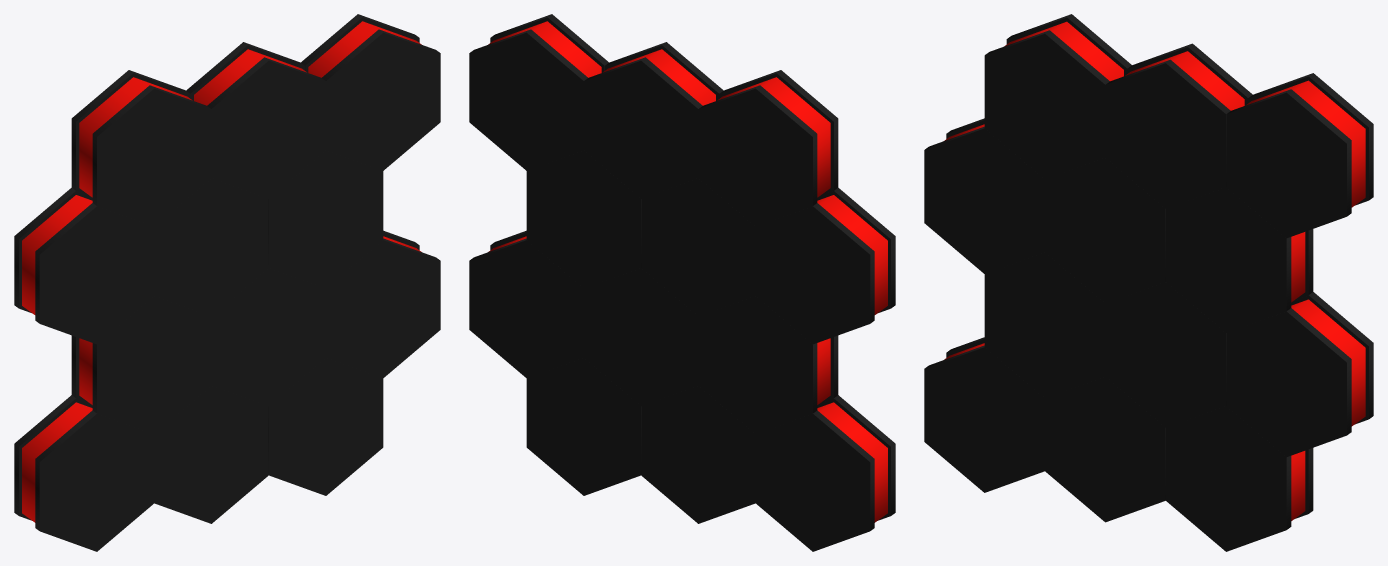
Rendered from Wall_Tile.fbx.
3 renders of one model, left to right at view 1: azimuth 30°, elevation 25°; view 2: azimuth 150°, elevation 25°; view 3: azimuth 330°, elevation 25°, orthographic. The views are drawn at different scales.
Parts seen in each view (by area): view 1: Wall_Tile011, Wall_Tile008, Wall_Tile002, Wall_Tile009, Wall_Tile010, Wall_Tile005, Wall_Tile004, Wall_Tile007, Wall_Tile001, Wall_Tile, Wall_Tile006, Wall_Tile003; view 2: Wall_Tile011, Wall_Tile008, Wall_Tile002, Wall_Tile009, Wall_Tile010, Wall_Tile005, Wall_Tile004, Wall_Tile007, Wall_Tile001, Wall_Tile, Wall_Tile006, Wall_Tile003; view 3: Wall_Tile010, Wall_Tile004, Wall_Tile009, Wall_Tile011, Wall_Tile007, Wall_Tile001, Wall_Tile002, Wall_Tile008, Wall_Tile003, Wall_Tile005, Wall_Tile, Wall_Tile006.
Boxes of the visible parts, box(x1,y1,x2,y2) form: Wall_Tile011: box(71, 70, 211, 226); Wall_Tile008: box(14, 187, 154, 344); Wall_Tile002: box(14, 395, 154, 551); Wall_Tile009: box(186, 42, 325, 198); Wall_Tile010: box(301, 14, 440, 170); Wall_Tile005: box(71, 296, 211, 433); Wall_Tile004: box(326, 230, 440, 378); Wall_Tile007: box(268, 150, 383, 288); Wall_Tile001: box(268, 358, 383, 495); Wall_Tile: box(154, 385, 268, 523); Wall_Tile006: box(154, 178, 268, 316); Wall_Tile003: box(211, 268, 325, 406); Wall_Tile011: box(698, 70, 838, 226); Wall_Tile008: box(755, 187, 895, 344); Wall_Tile002: box(755, 395, 895, 551); Wall_Tile009: box(584, 42, 723, 198); Wall_Tile010: box(469, 14, 608, 170); Wall_Tile005: box(698, 296, 838, 433); Wall_Tile004: box(469, 230, 583, 378); Wall_Tile007: box(526, 150, 641, 288); Wall_Tile001: box(526, 358, 641, 495); Wall_Tile: box(641, 385, 755, 523); Wall_Tile006: box(641, 178, 755, 316); Wall_Tile003: box(584, 268, 698, 406); Wall_Tile010: box(1226, 73, 1373, 238); Wall_Tile004: box(1226, 292, 1373, 457); Wall_Tile009: box(1105, 43, 1252, 208); Wall_Tile011: box(984, 14, 1131, 179); Wall_Tile007: box(1166, 187, 1313, 332); Wall_Tile001: box(1166, 406, 1313, 551); Wall_Tile002: box(924, 337, 1044, 492); Wall_Tile008: box(924, 118, 1044, 273); Wall_Tile003: box(1105, 282, 1226, 427); Wall_Tile005: box(984, 252, 1105, 398); Wall_Tile: box(1045, 376, 1165, 522); Wall_Tile006: box(1045, 158, 1165, 303).
Size of the model in its own units: 90.98 by 97.5 by 10.
